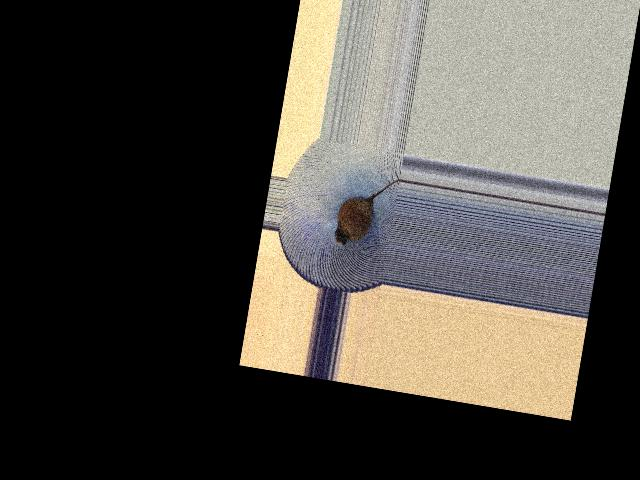beet: (333, 170, 400, 252)
